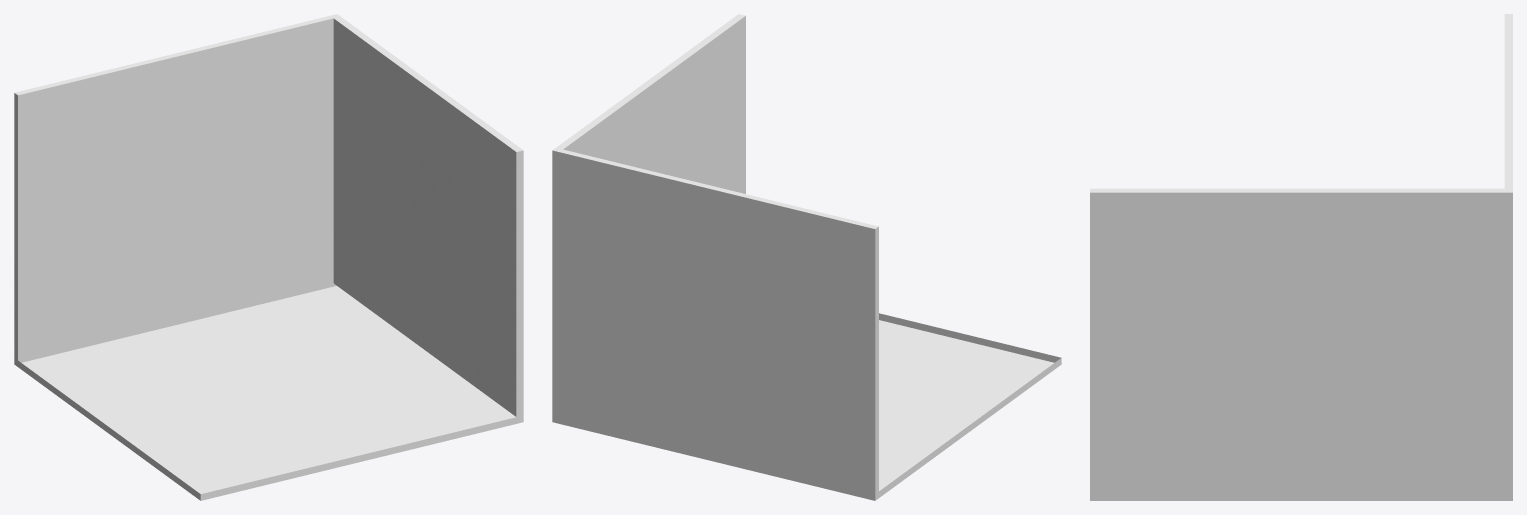
The model's file is Kitchen_Base.fbx.
3 renders of one model, left to right at view 1: azimuth 30°, elevation 25°; view 2: azimuth 150°, elevation 25°; view 3: azimuth 270°, elevation 25°, orthographic. The views are drawn at different scales.
Parts seen in each view (by area): view 1: Kitchen_Base; view 2: Kitchen_Base; view 3: Kitchen_Base.
Boxes of the visible parts, left/top/right/bottom form: Kitchen_Base: left=14, top=14, right=523, bottom=500; Kitchen_Base: left=552, top=14, right=1061, bottom=500; Kitchen_Base: left=1090, top=14, right=1512, bottom=500.
Size of the model in its own units: 500 by 500 by 402.
